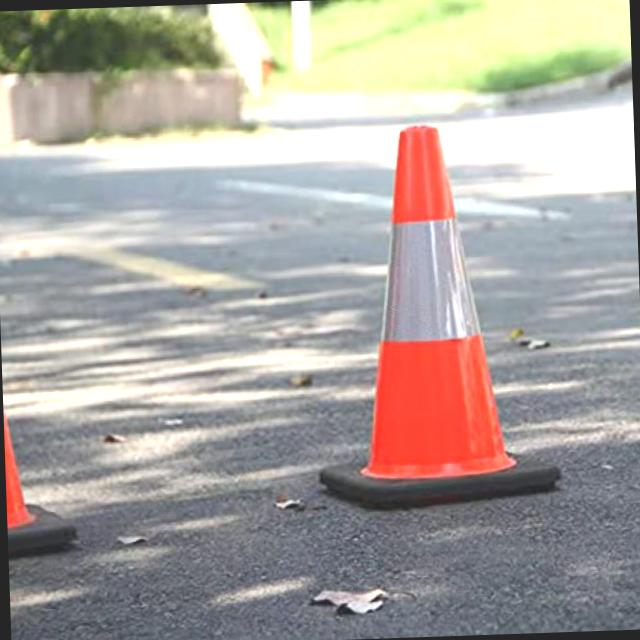cone: (296, 96, 576, 533)
